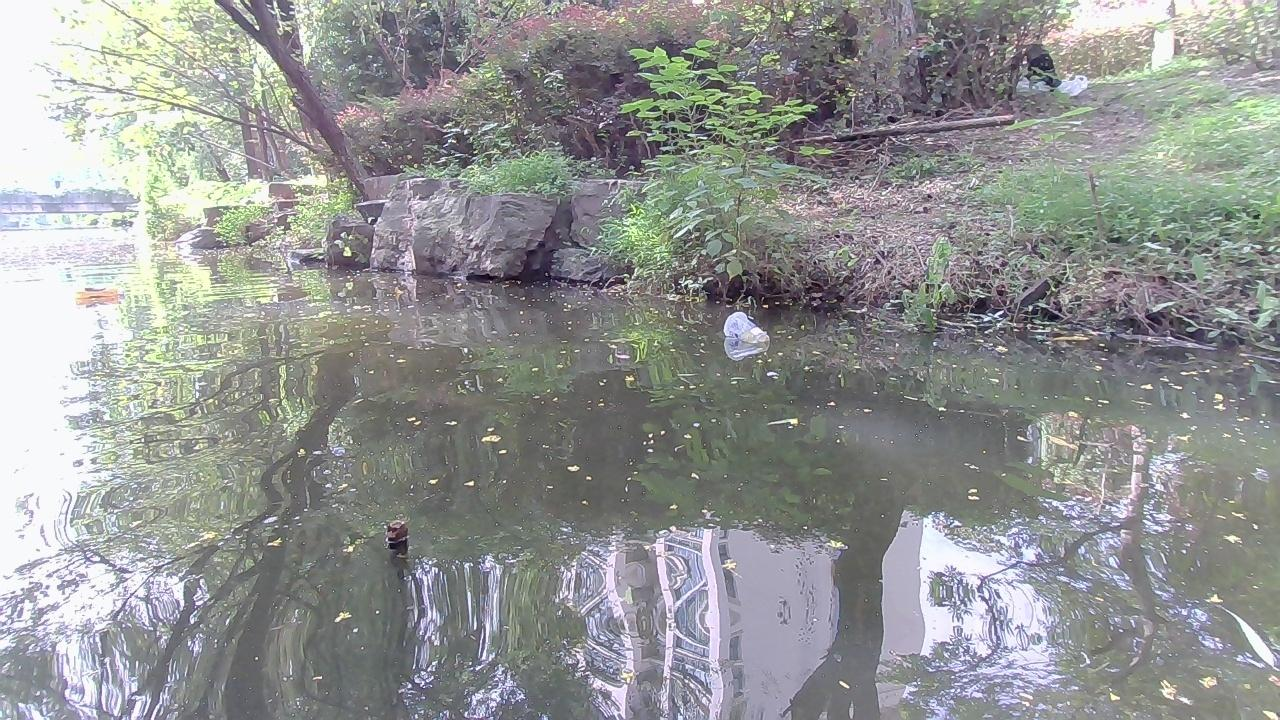bottle: (723, 310, 768, 345), (66, 280, 127, 304)
